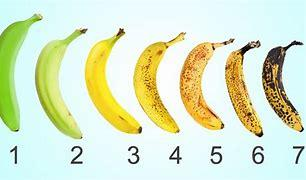banana: (79, 23, 142, 135), (129, 36, 180, 137), (35, 30, 81, 140), (219, 37, 262, 140), (2, 13, 34, 134), (184, 29, 222, 130), (266, 47, 306, 133)
